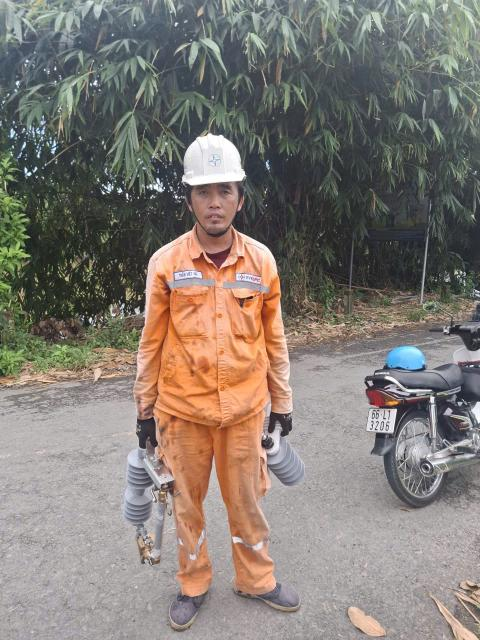gloves: (127, 409, 163, 458), (262, 394, 304, 436)
helmet: (177, 139, 259, 189)
shoes: (231, 564, 314, 627), (158, 569, 208, 640)
